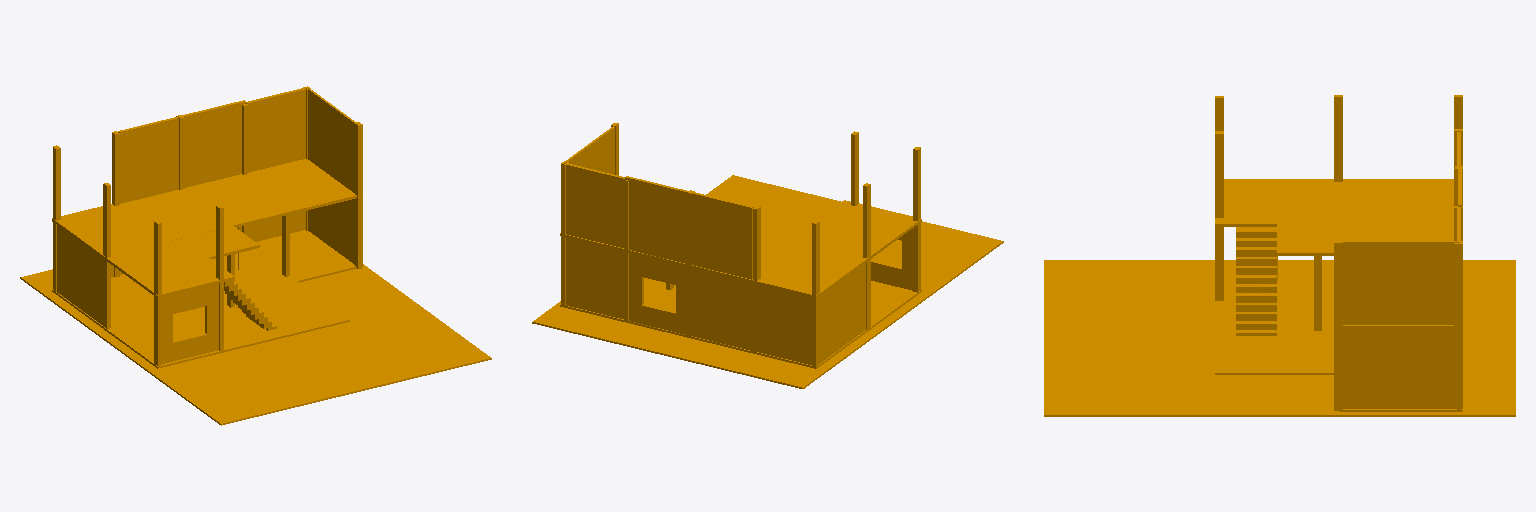
robot.urdf — ConstructionScene:
<?xml version="1.0"?>
<robot name="ConstructionScene">
  <link name="base_link">
    <visual>
      <geometry>
        <mesh filename="constructionscene.obj" scale="0.7 1 0.9"/>
      </geometry>
    </visual>
    <inertial>
      <origin rpy="0 0 0" xyz="0 0 0"/>
       <mass value=".0"/>
       <inertia ixx="0" ixy="0" ixz="0" iyy="0" iyz="0" izz="0"/>
    </inertial>
  </link>
</robot>

--- What the picture shows (computed from the rendered views, not written in the file) ---
Views: 3 orthographic renders of the robot side by side, from view 1: azimuth 30°, elevation 25°; view 2: azimuth 150°, elevation 25°; view 3: azimuth 270°, elevation 25°.
Model ConstructionScene with 1 links and 0 joints (none), rooted at base_link, posed every joint at zero.
Links seen in each view (by area): view 1: base_link; view 2: base_link; view 3: base_link.
Link boxes in pixels (x1,y1,x2,y2): base_link: (20,86,491,425); base_link: (532,123,1003,388); base_link: (1044,95,1515,416).
Size in the robot's own frame: 8.89 by 11.4 by 4.6 metres.
1 mesh visuals loaded from 1 distinct referenced files (1 OBJ).